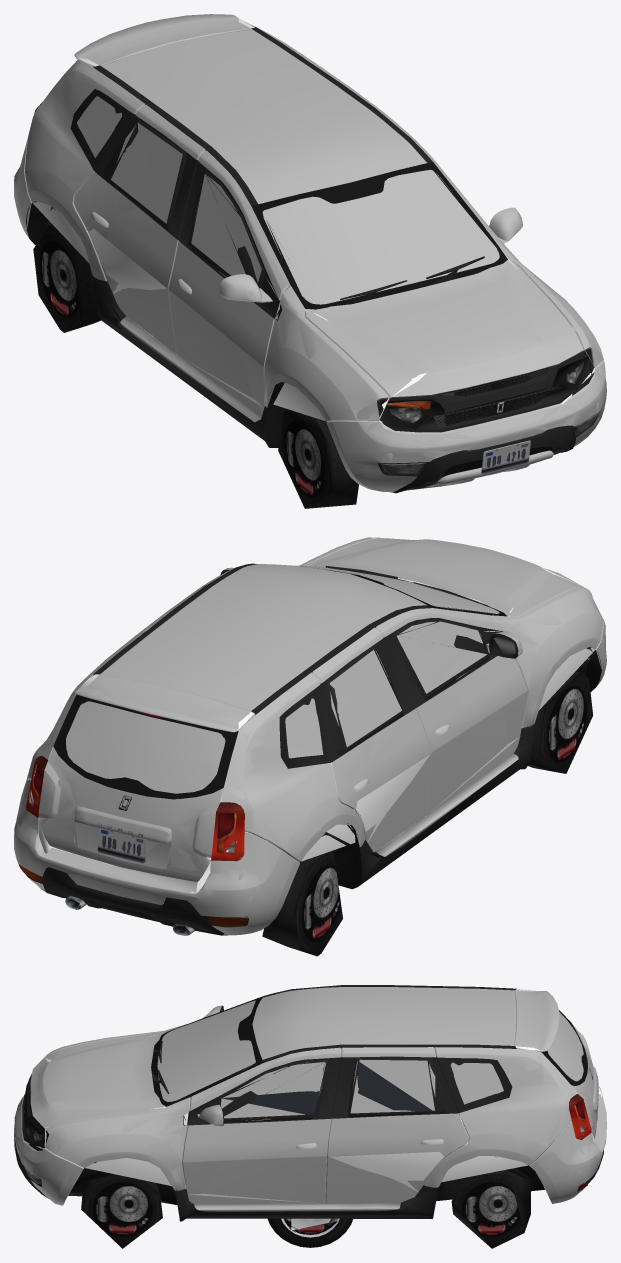
File: urban.glb
3 views of the same model, one above another, from view 1: azimuth 30°, elevation 25°; view 2: azimuth 150°, elevation 25°; view 3: azimuth 270°, elevation 25° (orthographic). The views are drawn at different scales.
Visible parts, largest first — view 1: paint0, paint1, far, kit0, glass0, glass1, kit1; view 2: paint0, paint1, far, kit0, glass0, glass1, kit1; view 3: paint0, far, paint1, kit0, glass0, glass1, kit1, wheel0, wheel1.
Boxes of the visible parts, <box> form: paint0: <box>14,14,606,492</box>; paint1: <box>14,19,603,490</box>; far: <box>33,18,594,508</box>; kit0: <box>26,27,600,493</box>; glass0: <box>77,96,499,304</box>; glass1: <box>77,96,499,303</box>; kit1: <box>29,94,599,482</box>; paint0: <box>14,537,606,935</box>; paint1: <box>16,538,605,935</box>; far: <box>20,538,595,956</box>; kit0: <box>18,563,601,935</box>; glass0: <box>66,564,499,791</box>; glass1: <box>66,566,499,793</box>; kit1: <box>19,566,601,935</box>; paint0: <box>14,987,606,1205</box>; far: <box>22,989,601,1248</box>; paint1: <box>15,989,606,1204</box>; kit0: <box>14,985,603,1221</box>; glass0: <box>157,1001,583,1120</box>; glass1: <box>160,1000,583,1114</box>; kit1: <box>14,986,597,1218</box>; wheel0: <box>268,1218,352,1247</box>; wheel1: <box>284,1218,337,1235</box>.
Size of the model in its own units: 1.88 by 1.85 by 4.29.
Materials: 1 (1 with a texture image).
